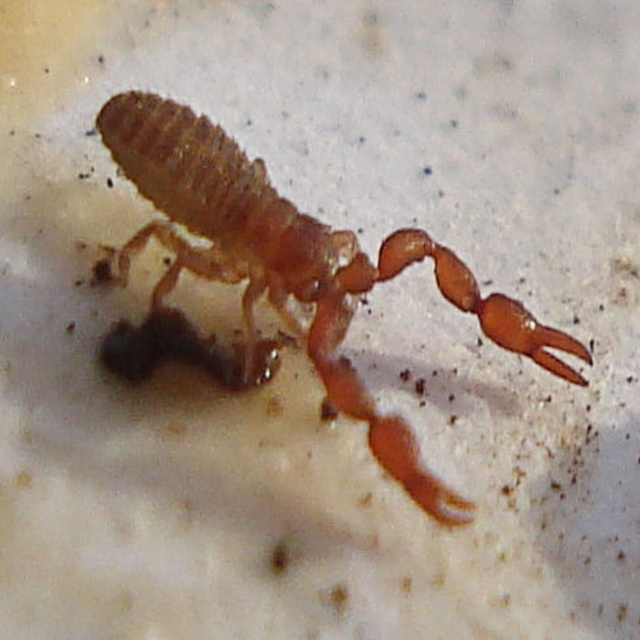Scorpion: (89, 85, 597, 532)
